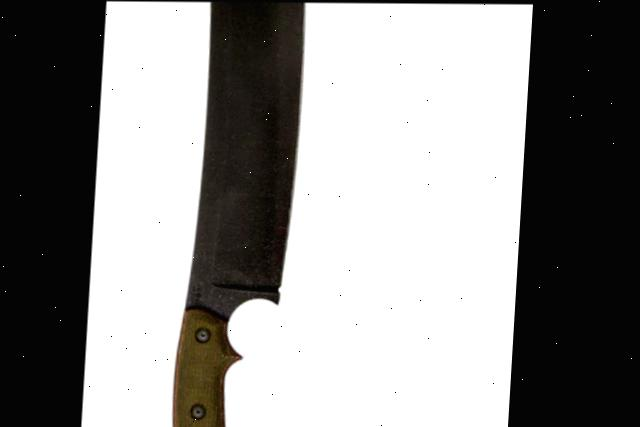long knife: (168, 1, 344, 427)
